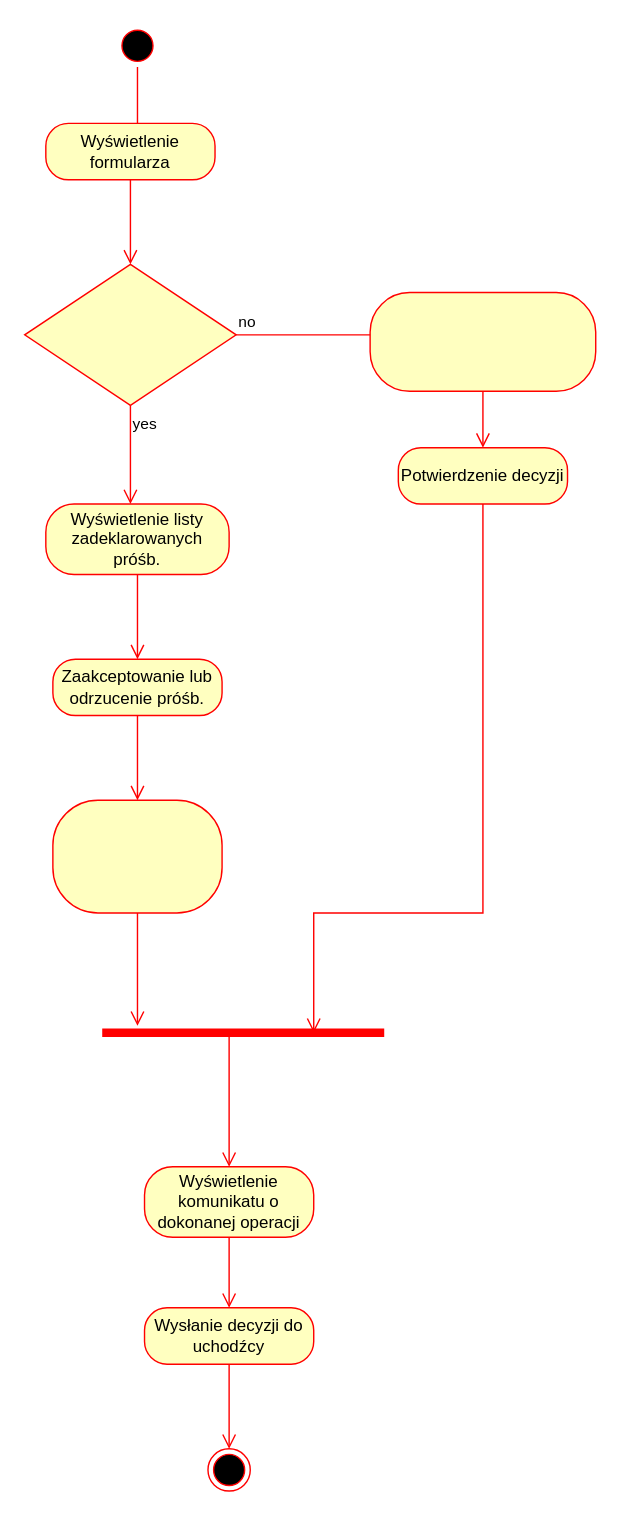
The diagram is 620 pixels wide and 1516 high, and some of its shapes have lost their labels. The centre of each missing label's shape, as x and y in pixels:
Akceptracja rejestracji: [129,334]
Wyświetlenie formularza z prośbą o podanie przyczyny odrzucenia wniosku: [482,341]
Wyświetlenie oraz potwierdzenie końcowego stanu dezycji.: [136,856]
